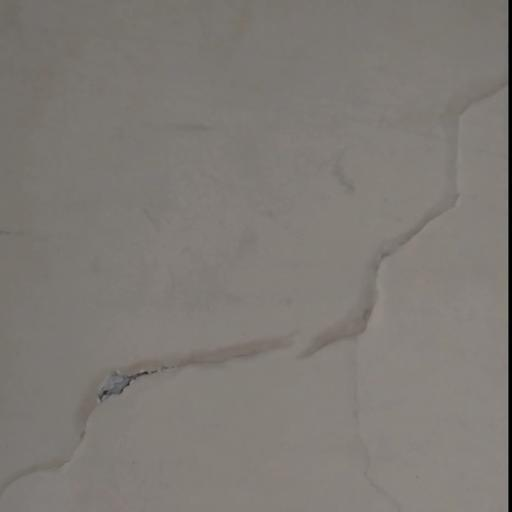minor_crack: (0, 48, 512, 512)
